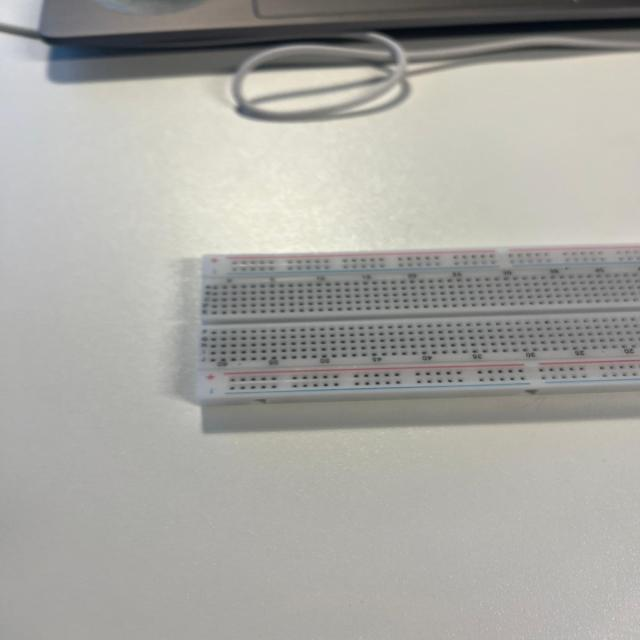BreadBoard: (193, 257, 635, 426)
